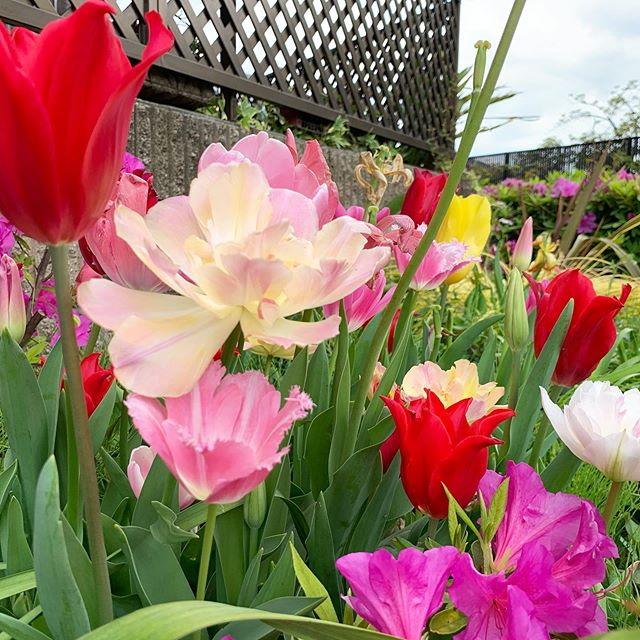flowers: (1, 21, 640, 640)
